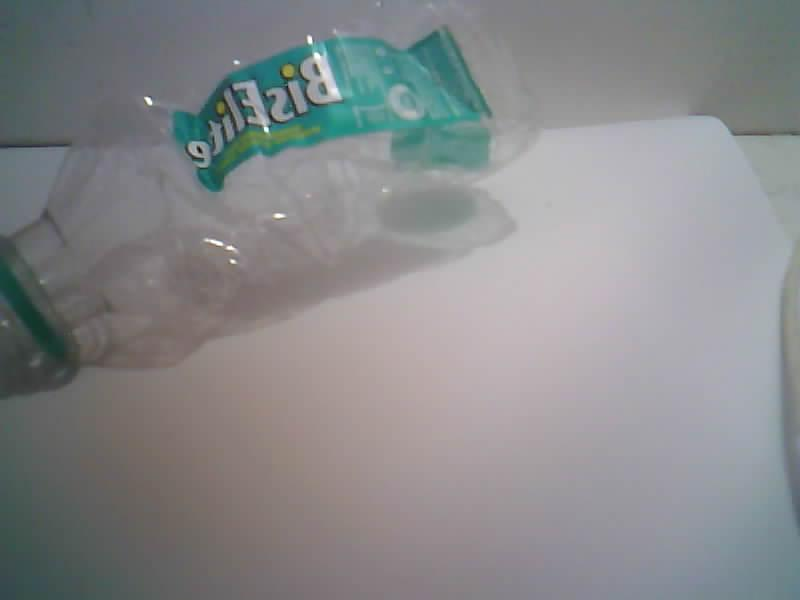non-biodegradable: (0, 1, 534, 397)
